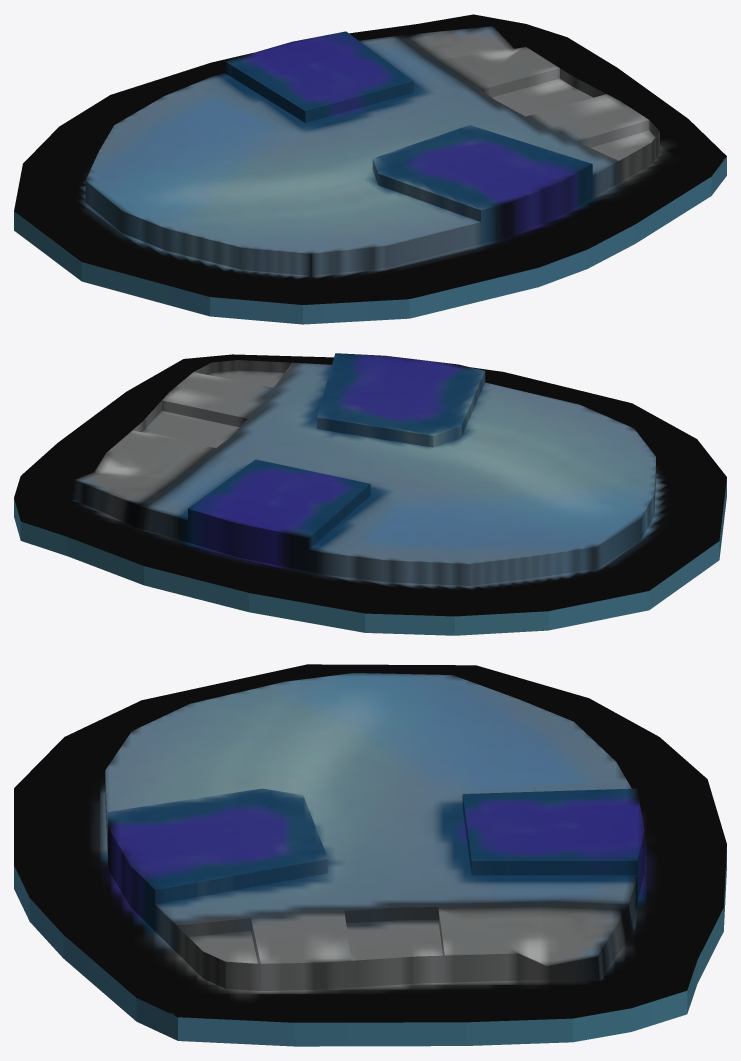
The model's file is BackPropulsor2.fbx.
3 views of the same model, one above another, from view 1: azimuth 30°, elevation 25°; view 2: azimuth 150°, elevation 25°; view 3: azimuth 270°, elevation 25° (orthographic). The views are drawn at different scales.
Parts seen in each view (by area): view 1: Cube; view 2: Cube; view 3: Cube.
Boxes of the visible parts, x1,y1,x2,y2 form: Cube: [14, 14, 726, 324]; Cube: [14, 353, 726, 635]; Cube: [14, 664, 726, 1046].
Bounding box in the file's own units: 265 × 22.56 × 223.
Materials: 1 (1 with a texture image).
